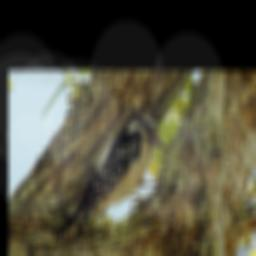Woodpecker: (56, 110, 169, 241)
